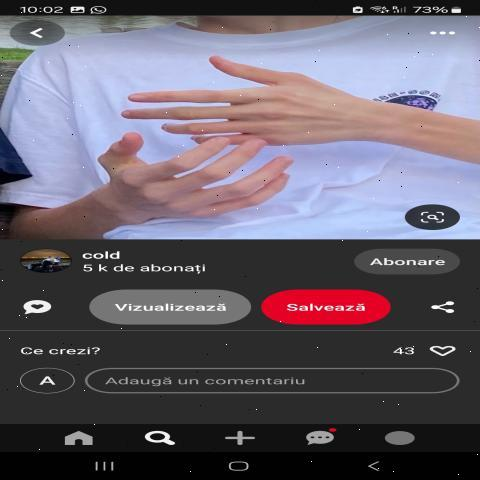Hands: (122, 24, 455, 162), (73, 119, 336, 237)
